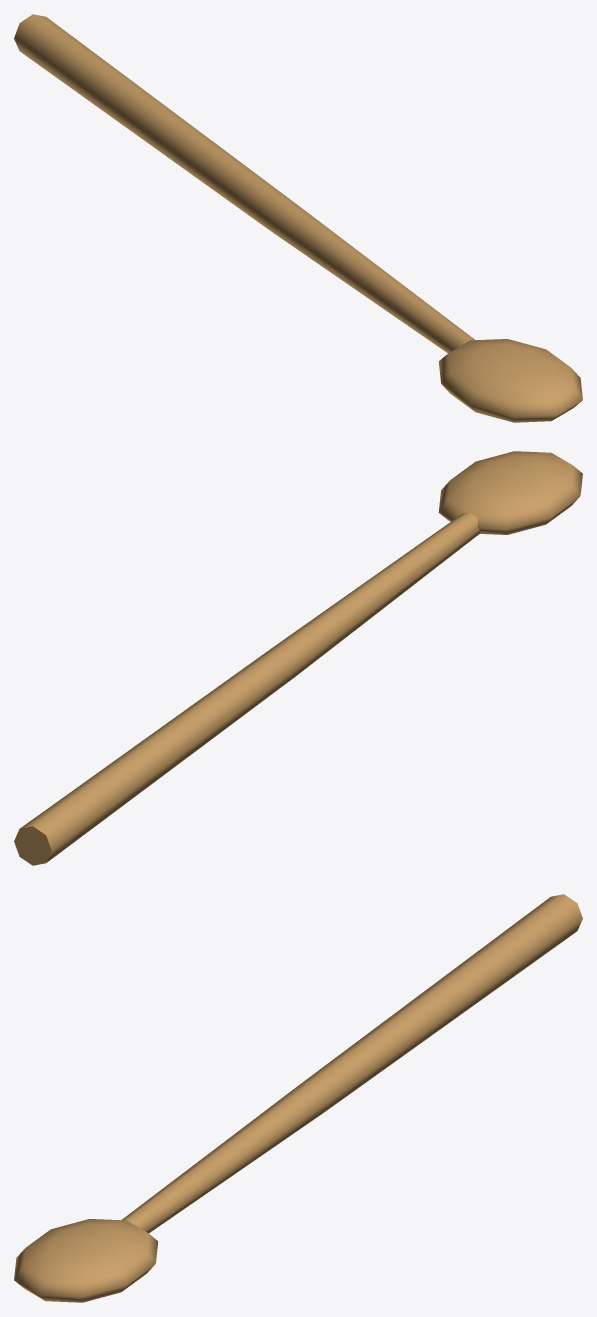
File: woodenSpoon.glb
The picture shows the model from 3 angles, top to bottom: view 1: azimuth 30°, elevation 25°; view 2: azimuth 150°, elevation 25°; view 3: azimuth 330°, elevation 25°; orthographic projection.
Visible parts, largest first — view 1: woodenSpoon; view 2: woodenSpoon; view 3: woodenSpoon.
Boxes of the visible parts, x1,y1,x2,y2 form: woodenSpoon: [14, 14, 582, 422]; woodenSpoon: [14, 451, 582, 865]; woodenSpoon: [14, 894, 582, 1302].
Size of the model in its own units: 0.038 by 0.0145 by 0.313.
